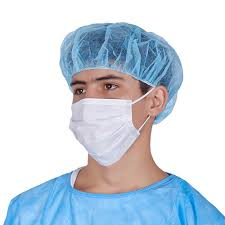mask: (66, 46, 149, 174)
